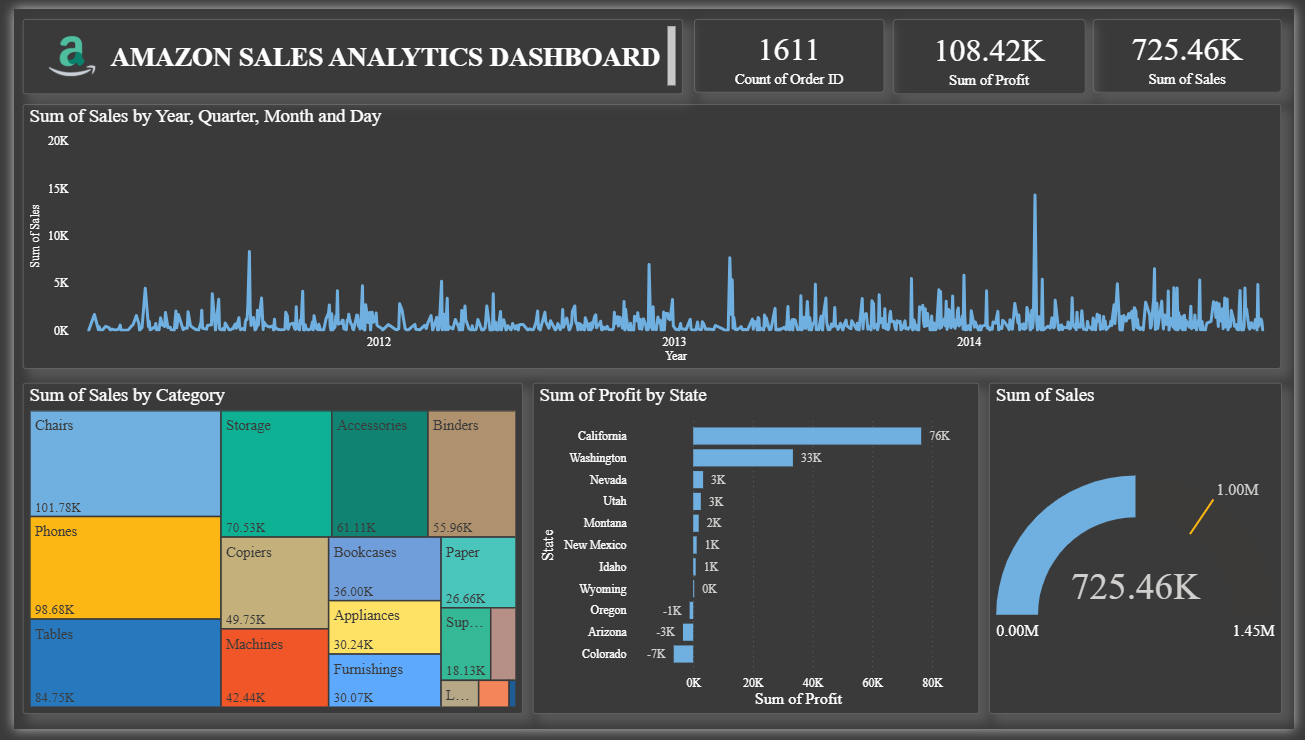

What the dashboard file says about the page in this screenshot:
{"tool":"powerbi","page":{"name":"Page 1","canvas":[1280,720],"ordinal":0},"visuals":[{"type":"card","fields":{"Values":["Sum(Walmart.Sales)"]},"box":[1068.8,0,211.2,103.8],"z":0},{"type":"card","fields":{"Values":["Sum(Walmart.Profit)"]},"box":[868.8,0,200,103.8],"z":1000},{"type":"card","fields":{"Values":["Count(Walmart.Order ID)"]},"box":[700,0,168.8,102.5],"z":2000},{"type":"lineChart","fields":{"Category":["Walmart.Order Date.Variation.Date Hierarchy.Year","Walmart.Order Date.Variation.Date Hierarchy.Quarter","Walmart.Order Date.Variation.Date Hierarchy.Month","Walmart.Order Date.Variation.Date Hierarchy.Day"],"Y":["Sum(Walmart.Sales)"]},"box":[0,95.4,1280.3,277.6],"z":3000},{"type":"treemap","fields":{"Group":["Walmart.Category"],"Values":["Sum(Walmart.Sales)"]},"box":[0,373,520.9,347.3],"z":4000},{"type":"clusteredBarChart","fields":{"Category":["Walmart.State"],"Y":["Sum(Walmart.Profit)"]},"box":[520.9,373,469.6,347.3],"z":5000},{"type":"gauge","fields":{"Y":["Sum(Walmart.Sales)"]},"box":[1015,373,265.4,347.3],"z":6000},{"type":"textbox","box":[0,17.5,661.2,58.8],"z":7000}]}

Visuals, with their boxes in screenshot pixels (x1, y1, x2, y2), scaled from the page's 1280x720 canvas onto the 1305x740 screenshot:
card - Sum(Walmart.Sales): <box>1090,0,1304,107</box>
card - Sum(Walmart.Profit): <box>886,0,1090,107</box>
card - Count(Walmart.Order ID): <box>714,0,886,105</box>
lineChart - Walmart.Order Date.Variation.Date Hierarchy.Year x Walmart.Order Date.Variation.Date Hierarchy.Quarter: <box>0,98,1304,383</box>
treemap - Walmart.Category x Sum(Walmart.Sales): <box>0,383,531,739</box>
clusteredBarChart - Walmart.State x Sum(Walmart.Profit): <box>531,383,1010,739</box>
gauge - Sum(Walmart.Sales): <box>1035,383,1304,739</box>
textbox: <box>0,18,674,78</box>
